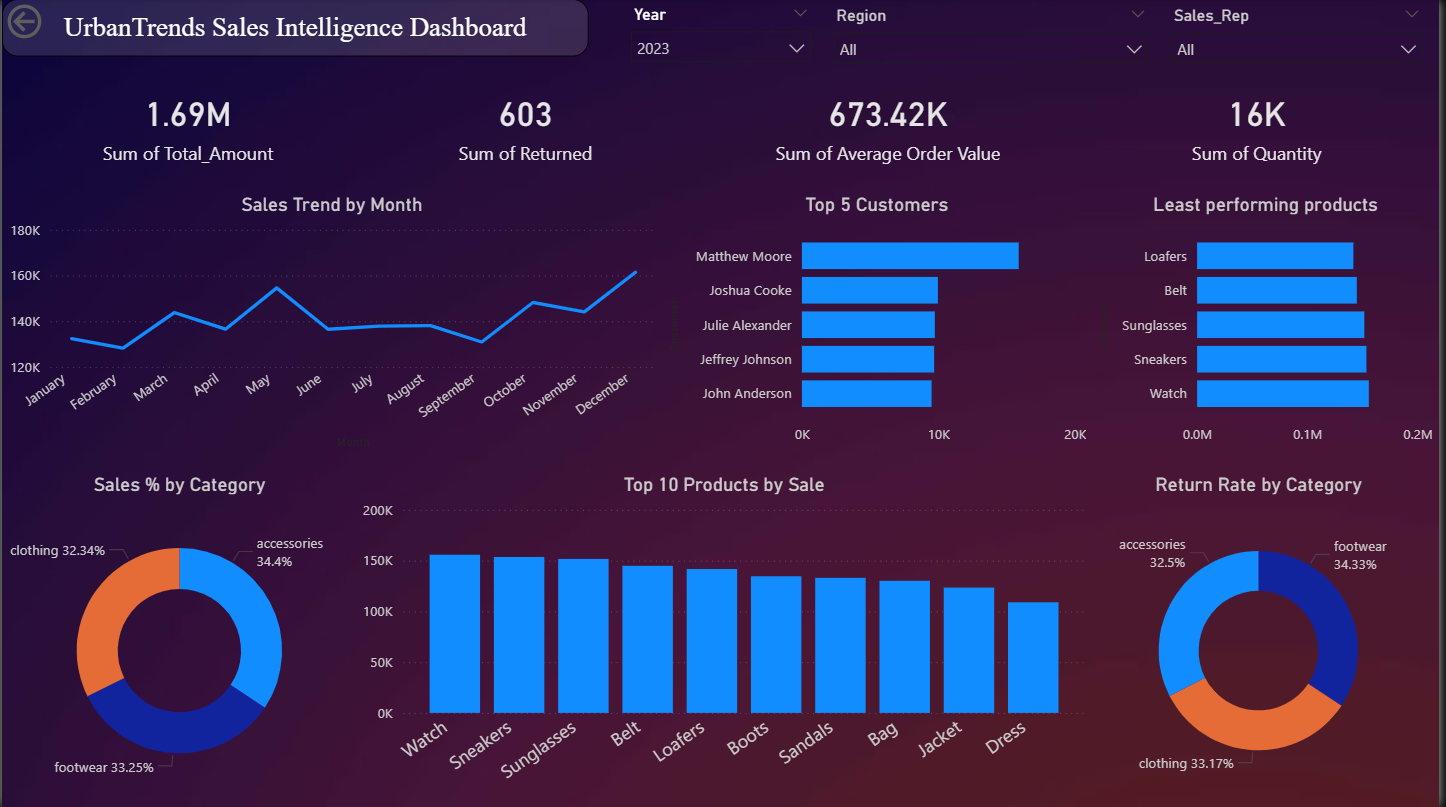

What the dashboard file says about the page in this screenshot:
{"tool":"powerbi","page":{"name":"Dashboard","canvas":[1280,720],"ordinal":0},"visuals":[{"type":"lineChart","title":"Sales Trend by Month","fields":{"Y":["freelance_projects cleanedurbantrends.Total_Amount"],"Category":["freelance_projects cleanedurbantrends.Sale_Date.Variation.Date Hierarchy.Month"]},"box":[0,173,587.7,233.1],"z":0},{"type":"textbox","box":[0,0,522.7,51.5],"z":1000},{"type":"slicer","fields":{"Values":["freelance_projects cleanedurbantrends.Sale_Date.Variation.Date Hierarchy.Year"]},"box":[549.7,0,180.4,60.1],"z":2000},{"type":"columnChart","title":"Top 10 Products by Sale","fields":{"Category":["freelance_projects cleanedurbantrends.Product"],"Y":["freelance_projects cleanedurbantrends.Total_Amount"]},"box":[316.6,422.1,654,298.2],"z":3000},{"type":"donutChart","title":"Sales %  by Category","fields":{"Category":["freelance_projects cleanedurbantrends.Category"],"Y":["freelance_projects cleanedurbantrends.Total_Amount"]},"box":[0,422.1,316.6,298.2],"z":4000},{"type":"donutChart","title":"Return Rate  by Category","fields":{"Category":["freelance_projects cleanedurbantrends.Category"],"Y":["freelance_projects cleanedurbantrends.Returned"]},"box":[970.6,422.1,296.9,298.2],"z":5000},{"type":"barChart","title":"Top 5 Customers","fields":{"Category":["freelance_projects cleanedurbantrends.Customer"],"Y":["freelance_projects cleanedurbantrends.Total_Amount"]},"box":[587.7,173,382.8,233.1],"z":6000},{"type":"barChart","title":"Least performing products","fields":{"Y":["freelance_projects cleanedurbantrends.Total_Amount"],"Category":["freelance_projects cleanedurbantrends.Product"]},"box":[970.6,173,309.2,233.1],"z":7000},{"type":"slicer","fields":{"Values":["freelance_projects cleanedurbantrends.Region"]},"box":[730.1,1.2,300.6,60.1],"z":8000},{"type":"card","fields":{"Values":["freelance_projects cleanedurbantrends.Total_Amount"]},"box":[16,69.9,300.6,83.4],"z":9000},{"type":"card","fields":{"Values":["freelance_projects cleanedurbantrends.Returned"]},"box":[316.6,69.9,300.6,83.4],"z":10000},{"type":"card","fields":{"Values":["freelance_projects cleanedurbantrends.Unit_Price"]},"box":[639.3,69.9,300.6,83.4],"z":11000},{"type":"card","fields":{"Values":["freelance_projects cleanedurbantrends.Quantity"]},"box":[966.9,69.9,300.6,83.4],"z":12000},{"type":"actionButton","box":[0,0,100,40],"z":13000},{"type":"slicer","fields":{"Values":["freelance_projects cleanedurbantrends.Sales_Rep"]},"box":[1030.7,1.2,244.2,60.1],"z":14000}]}

Visuals, with their boxes in screenshot pixels (x1, y1, x2, y2), scaled from the page's 1280x720 canvas onto the 1446x807 screenshot:
"Sales Trend by Month" lineChart: x1=0, y1=194, x2=664, y2=455
textbox: x1=0, y1=0, x2=590, y2=58
slicer - freelance_projects cleanedurbantrends.Sale_Date.Variation.Date Hierarchy.Year: x1=621, y1=0, x2=825, y2=67
"Top 10 Products by Sale" columnChart: x1=358, y1=473, x2=1096, y2=806
"Sales %  by Category" donutChart: x1=0, y1=473, x2=358, y2=806
"Return Rate  by Category" donutChart: x1=1096, y1=473, x2=1432, y2=806
"Top 5 Customers" barChart: x1=664, y1=194, x2=1096, y2=455
"Least performing products" barChart: x1=1096, y1=194, x2=1445, y2=455
slicer - freelance_projects cleanedurbantrends.Region: x1=825, y1=1, x2=1164, y2=69
card - freelance_projects cleanedurbantrends.Total_Amount: x1=18, y1=78, x2=358, y2=172
card - freelance_projects cleanedurbantrends.Returned: x1=358, y1=78, x2=697, y2=172
card - freelance_projects cleanedurbantrends.Unit_Price: x1=722, y1=78, x2=1062, y2=172
card - freelance_projects cleanedurbantrends.Quantity: x1=1092, y1=78, x2=1432, y2=172
actionButton: x1=0, y1=0, x2=113, y2=45
slicer - freelance_projects cleanedurbantrends.Sales_Rep: x1=1164, y1=1, x2=1440, y2=69
